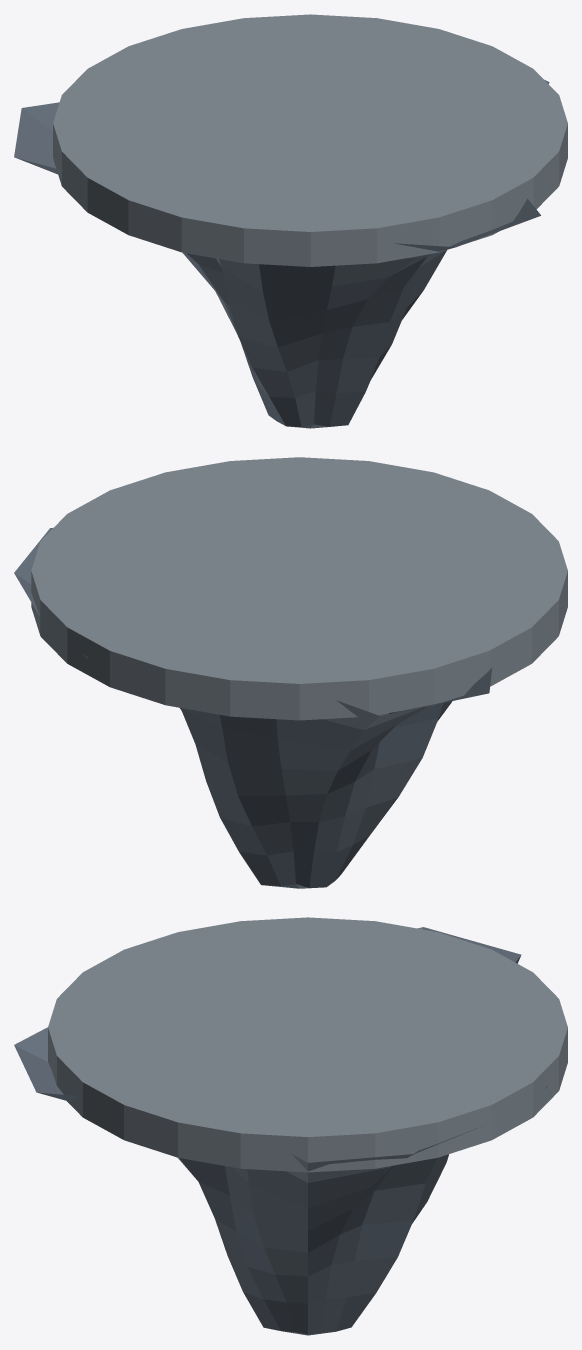
File: island_rock_large.glb
3 renders of one model, top to bottom at view 1: azimuth 30°, elevation 25°; view 2: azimuth 150°, elevation 25°; view 3: azimuth 270°, elevation 25°, orthographic. The views are drawn at different scales.
Visible parts, largest first — view 1: Rock_Island_Large; view 2: Rock_Island_Large; view 3: Rock_Island_Large.
Part boxes in pixels (x1=…): Rock_Island_Large: x1=14, y1=14, x2=567, y2=428; Rock_Island_Large: x1=14, y1=457, x2=567, y2=888; Rock_Island_Large: x1=14, y1=917, x2=567, y2=1335.
Bounding box in the file's own units: 25.76 × 15.7 × 25.57.
